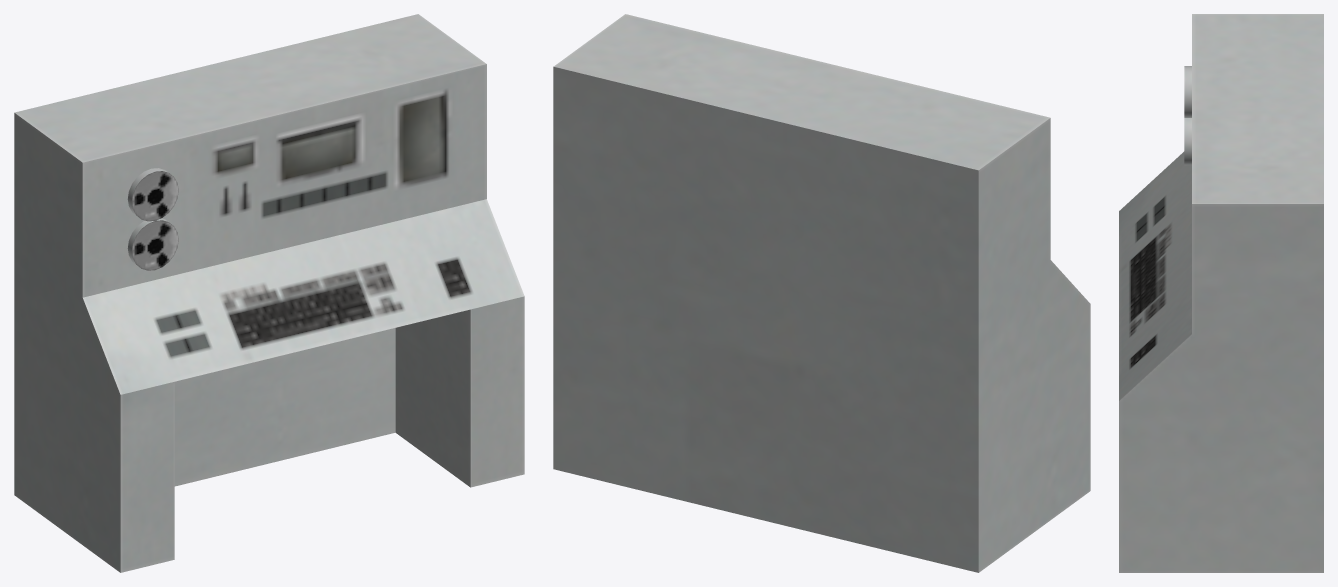
The model's file is Console.fbx.
3 renders of one model, left to right at view 1: azimuth 30°, elevation 25°; view 2: azimuth 150°, elevation 25°; view 3: azimuth 270°, elevation 25°, orthographic. The views are drawn at different scales.
Parts seen in each view (by area): view 1: Console; view 2: Console; view 3: Console.
Part boxes in pixels (<box>): Console: <box>14,14,524,572</box>; Console: <box>553,14,1090,572</box>; Console: <box>1119,14,1323,572</box>.
Bounding box in the file's own units: 134 × 121 × 60.97.
1 material, 1 textured.
